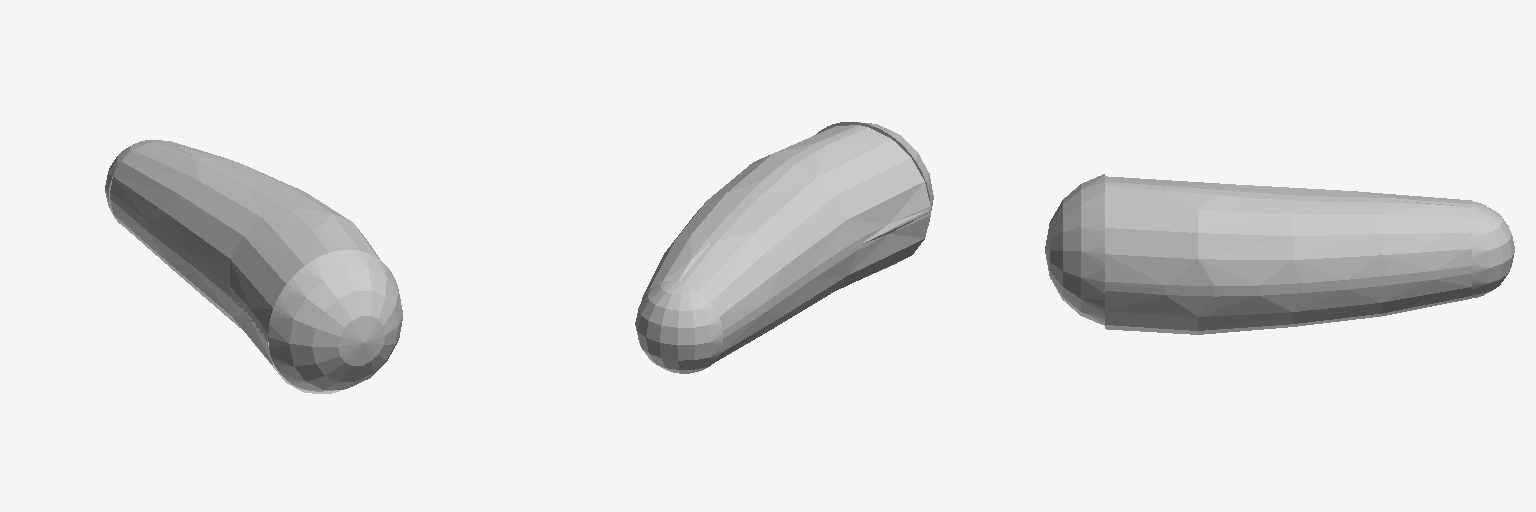
The model's file is R_LEG_THIGH.obj.
The picture shows the model from 3 angles: view 1: azimuth 30°, elevation 25°; view 2: azimuth 150°, elevation 25°; view 3: azimuth 270°, elevation 25°; orthographic projection.
Size of the model in its own units: 0.1779 by 0.1593 by 0.48.